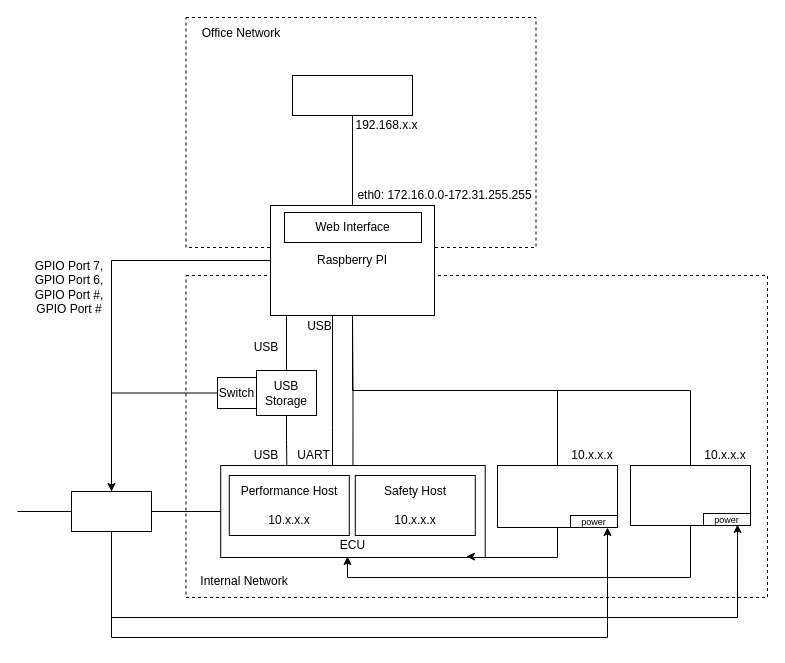
Image size: 785x663. Some labels were removed from this diagram. Each missing label, with the box of its shape:
Lautherbach Debugger: (496, 464, 618, 528)
PC: (292, 74, 412, 116)
Power Relay: (70, 490, 152, 532)
VnBox: (630, 464, 750, 526)
